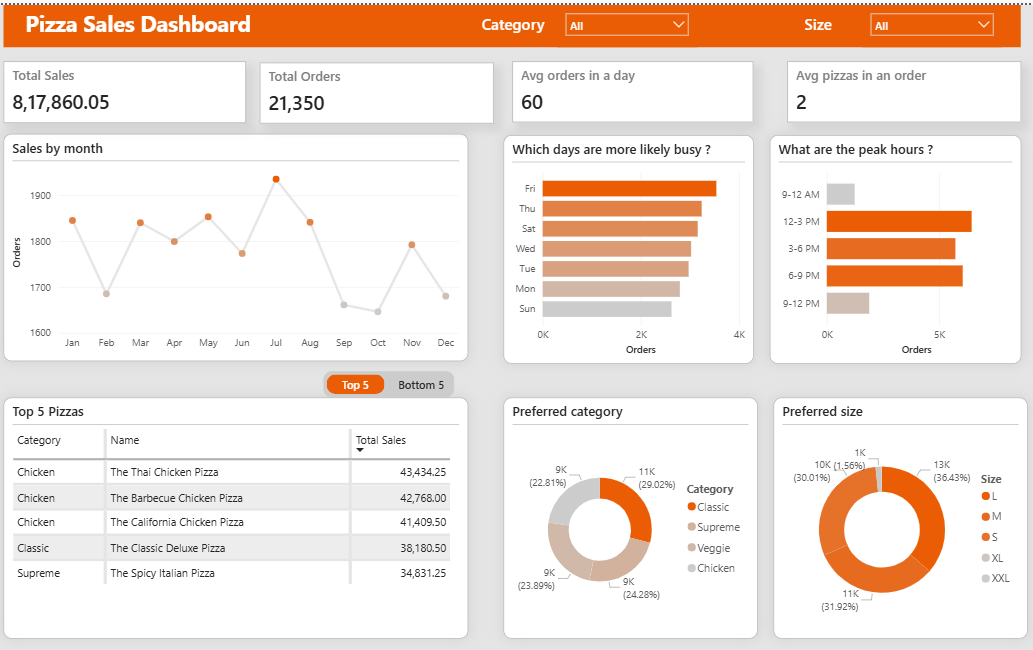

What the dashboard file says about the page in this screenshot:
{"tool":"powerbi","page":{"name":"Page 1","canvas":[1280,800],"ordinal":0},"visuals":[{"type":"textbox","box":[9.9,0,1252.1,52.1],"z":0},{"type":"shape","title":"Category","box":[581.7,11.3,109.9,31],"z":1000,"group":"g1"},{"type":"shape","title":"Size","box":[956.3,11.3,109.9,31],"z":1000,"group":"g2"},{"type":"barChart","title":"What are the peak hours ?","fields":{"Y":["All Measures.Orders"],"Category":["Orders.Time Slot"]},"box":[952.3,160,309.2,281.5],"z":1000},{"type":"barChart","title":"Which days are more likely busy ?","fields":{"Y":["All Measures.Orders"],"Category":["Date Table.Day"]},"box":[624.6,160,307.7,281.5],"z":2000},{"type":"lineChart","title":"Sales by month","fields":{"Category":["Date Table.Month"],"Y":["All Measures.Orders"]},"box":[9.9,159.2,571.8,280.3],"z":3000},{"type":"donutChart","title":"Preferred category","fields":{"Y":["All Measures.Orders"],"Category":["Pizza Types.Category"]},"box":[625.4,483.1,312.7,297.2],"z":4000},{"type":"donutChart","title":"Preferred size","fields":{"Y":["All Measures.Orders"],"Category":["Pizzas.Size"]},"box":[956.3,483.1,312.7,297.2],"z":5000},{"type":"tableEx","title":"Top 5 Pizzas","fields":{"Values":["Pizza Types.Category","Pizza Types.Name","All Measures.Total Sales"]},"box":[9.9,483.1,571.8,297.2],"z":6000},{"type":"bookmarkNavigator","box":[402.8,450.7,160.6,32.4],"z":8000},{"type":"multiRowCard","title":"Total Sales","fields":{"Values":["All Measures.Total Sales"]},"box":[9.9,69,298.6,76.1],"z":9000},{"type":"multiRowCard","title":"Avg orders in  a day","fields":{"Values":["All Measures.Avg Orders In A Day"]},"box":[635.4,69.2,296.9,75.4],"z":10000},{"type":"multiRowCard","title":"Avg pizzas in  an order","fields":{"Values":["All Measures.Avg Pizzas In An Order"]},"box":[973.8,69.2,287.7,75.4],"z":11000},{"type":"multiRowCard","title":"Total Orders","fields":{"Values":["All Measures.Orders"]},"box":[324.6,70.8,287.7,75.4],"z":12000},{"type":"group","id":"g1","title":"Category Slicer","box":[581.7,0,281.7,52.1],"z":13000},{"type":"slicer","fields":{"Values":["Pizza Types.Category"]},"box":[691.6,0,171.8,52.1],"z":13000,"group":"g1"},{"type":"slicer","fields":{"Values":["Pizzas.Size"]},"box":[1066.2,0,171.8,52.1],"z":13000,"group":"g2"},{"type":"group","id":"g2","title":"Category Slicer","box":[956.3,0,281.7,52.1],"z":14000}]}

Visuals, with their boxes in screenshot pixels (x1, y1, x2, y2), scaled from the page's 1280x800 canvas onto the 1033x650 screenshot:
textbox: <region>8, 0, 1018, 42</region>
"Category" shape: <region>469, 9, 558, 34</region>
"Size" shape: <region>772, 9, 860, 34</region>
"What are the peak hours ?" barChart: <region>769, 130, 1018, 359</region>
"Which days are more likely busy ?" barChart: <region>504, 130, 752, 359</region>
"Sales by month" lineChart: <region>8, 129, 469, 357</region>
"Preferred category" donutChart: <region>505, 393, 757, 634</region>
"Preferred size" donutChart: <region>772, 393, 1024, 634</region>
"Top 5 Pizzas" tableEx: <region>8, 393, 469, 634</region>
bookmarkNavigator: <region>325, 366, 455, 393</region>
"Total Sales" multiRowCard: <region>8, 56, 249, 118</region>
"Avg orders in  a day" multiRowCard: <region>513, 56, 752, 117</region>
"Avg pizzas in  an order" multiRowCard: <region>786, 56, 1018, 117</region>
"Total Orders" multiRowCard: <region>262, 58, 494, 119</region>
"Category Slicer" group: <region>469, 0, 697, 42</region>
slicer - Pizza Types.Category: <region>558, 0, 697, 42</region>
slicer - Pizzas.Size: <region>860, 0, 999, 42</region>
"Category Slicer" group: <region>772, 0, 999, 42</region>
